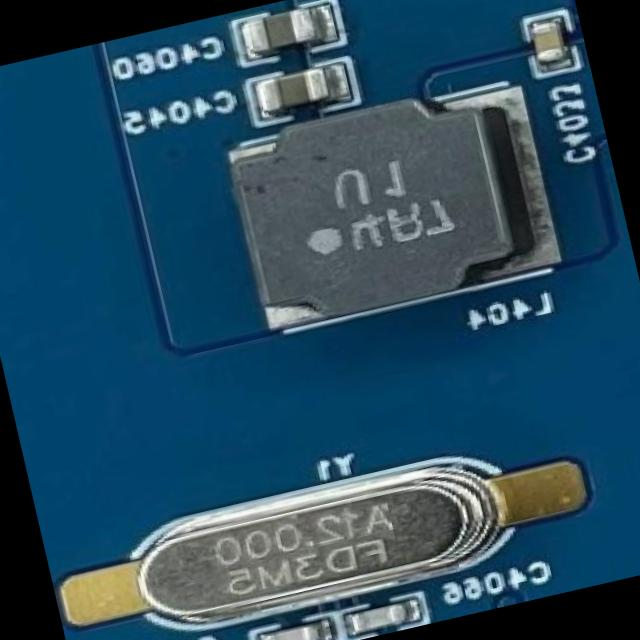capacitor: (229, 4, 334, 58), (246, 64, 340, 115), (338, 594, 421, 640), (526, 19, 570, 76), (254, 612, 332, 640)
